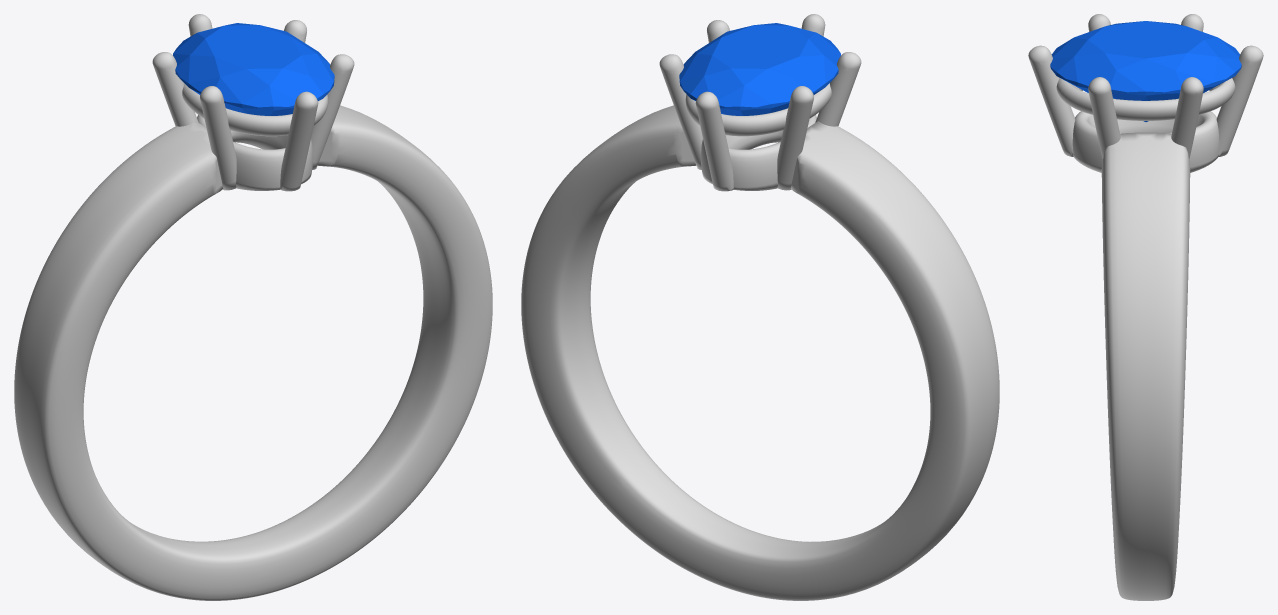
File: bluesapphire-oval-platinum-6prong-straighttaperedband-nosidestones.glb
3 renders of one model, left to right at view 1: azimuth 30°, elevation 25°; view 2: azimuth 150°, elevation 25°; view 3: azimuth 270°, elevation 25°, orthographic.
Parts seen in each view (by area): view 1: metal, stone; view 2: metal, stone; view 3: metal, stone.
Boxes of the visible parts, x1,y1,x2,y2 form: metal: [14, 14, 492, 600]; stone: [173, 23, 334, 115]; metal: [521, 14, 999, 600]; stone: [679, 23, 840, 115]; metal: [1028, 14, 1263, 600]; stone: [1050, 21, 1241, 121].
Bounding box in the file's own units: 20.49 × 23.41 × 9.29.
